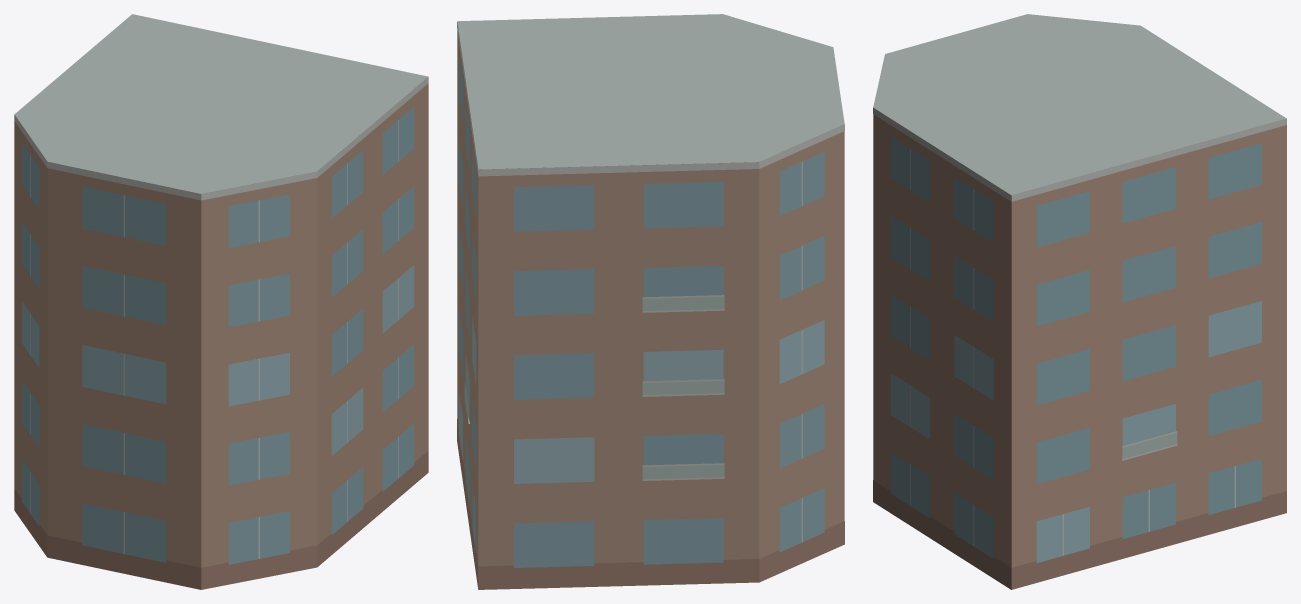
Rendered from survey-upis-32674739.glb.
The picture shows the model from 3 angles, left to right: view 1: azimuth 30°, elevation 25°; view 2: azimuth 150°, elevation 25°; view 3: azimuth 270°, elevation 25°; orthographic projection. The views are drawn at different scales.
Visible parts, largest first — view 1: survey-upis-32674739.tmp; view 2: survey-upis-32674739.tmp; view 3: survey-upis-32674739.tmp.
Part boxes in pixels (x1=…): survey-upis-32674739.tmp: x1=14, y1=14, x2=428, y2=589; survey-upis-32674739.tmp: x1=457, y1=14, x2=844, y2=589; survey-upis-32674739.tmp: x1=873, y1=14, x2=1286, y2=589.
Bounding box in the file's own units: 14.65 × 14.85 × 14.12.
